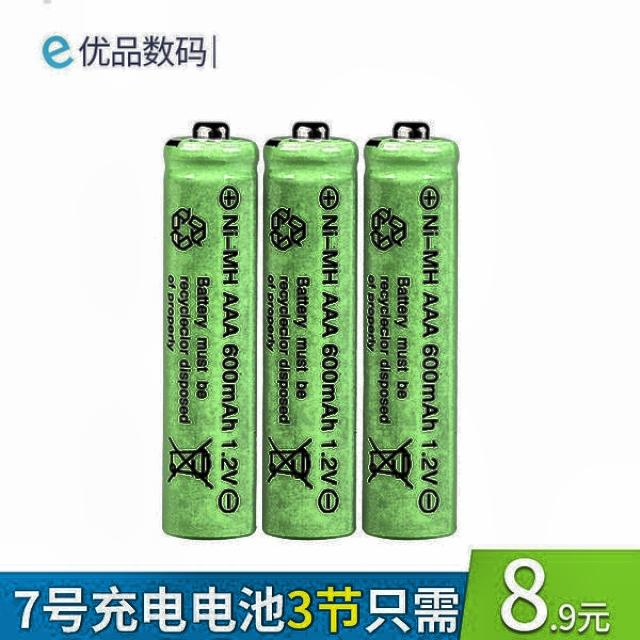Non-Valuable Waste - Batteries: (162, 122, 258, 538), (262, 124, 358, 538), (364, 122, 458, 538)
